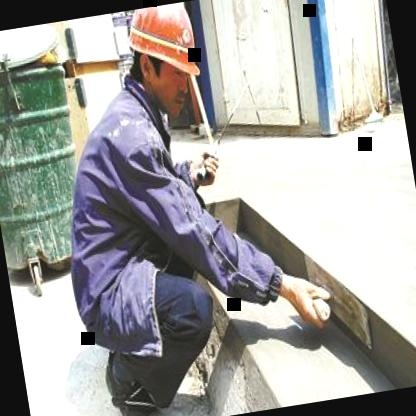helmet: (118, 0, 210, 121)
